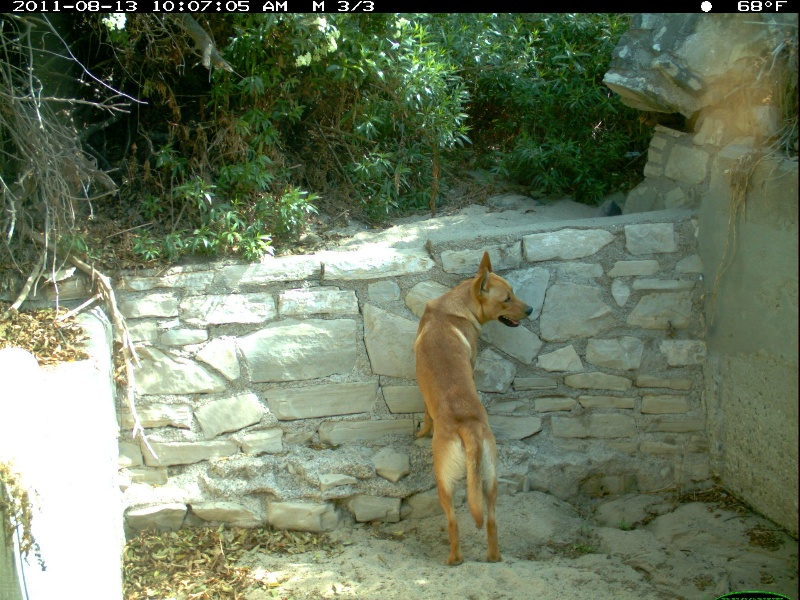dog: (411, 251, 539, 573)
